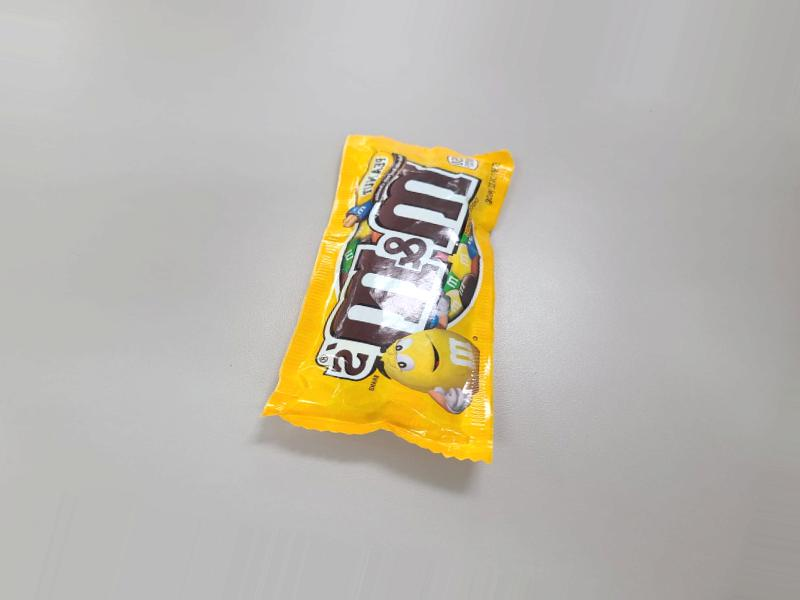m&m: (230, 156, 493, 491)
